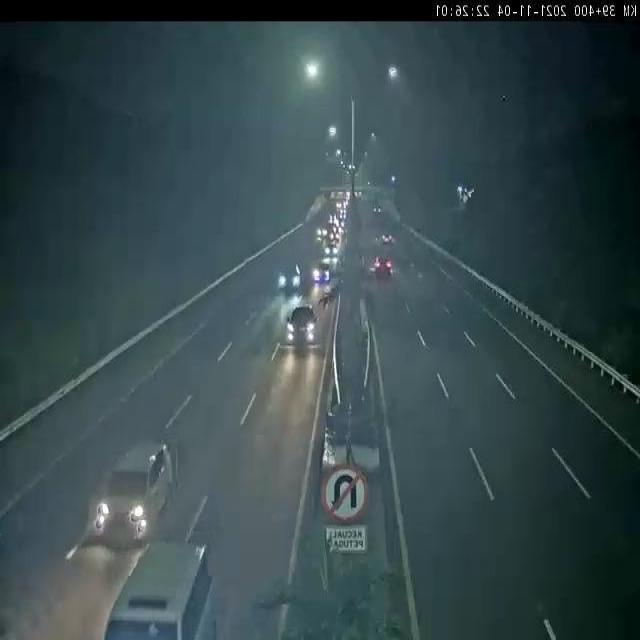Car: (97, 526, 222, 640), (75, 427, 179, 560), (276, 296, 321, 350), (269, 254, 304, 298), (370, 251, 397, 283), (312, 260, 333, 288), (322, 240, 340, 260), (379, 228, 396, 249)
